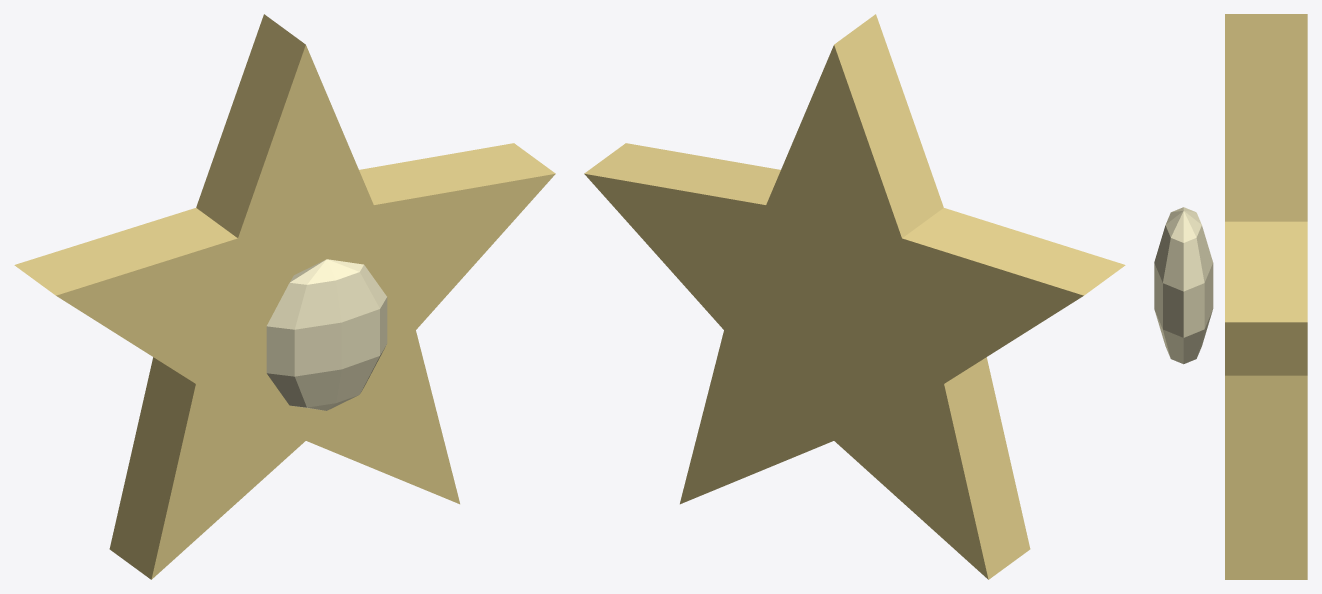
The model's file is estrella.glb.
3 views of the same model, side by side, from view 1: azimuth 30°, elevation 25°; view 2: azimuth 150°, elevation 25°; view 3: azimuth 270°, elevation 25° (orthographic).
Parts seen in each view (by area): view 1: estrella; view 2: estrella; view 3: estrella.
Boxes of the visible parts, bbox=[...] form: estrella: bbox=[14, 14, 555, 579]; estrella: bbox=[584, 14, 1125, 579]; estrella: bbox=[1154, 14, 1307, 579].
Bounding box in the file's own units: 0.5516 × 0.5246 × 0.1485.
